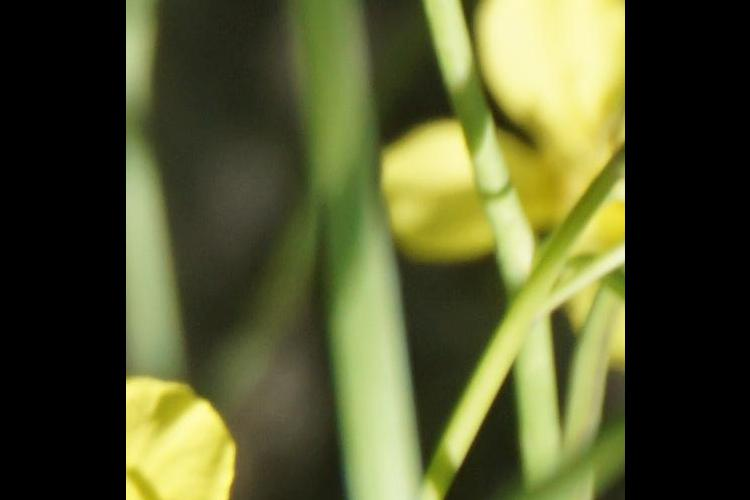yellow: (389, 1, 614, 279), (127, 382, 260, 500)
